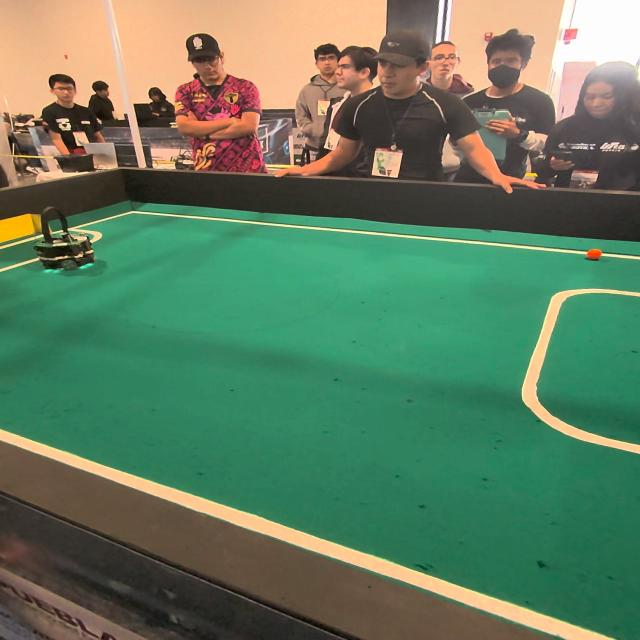Robot: (32, 202, 102, 278)
pelota: (583, 246, 607, 263)
